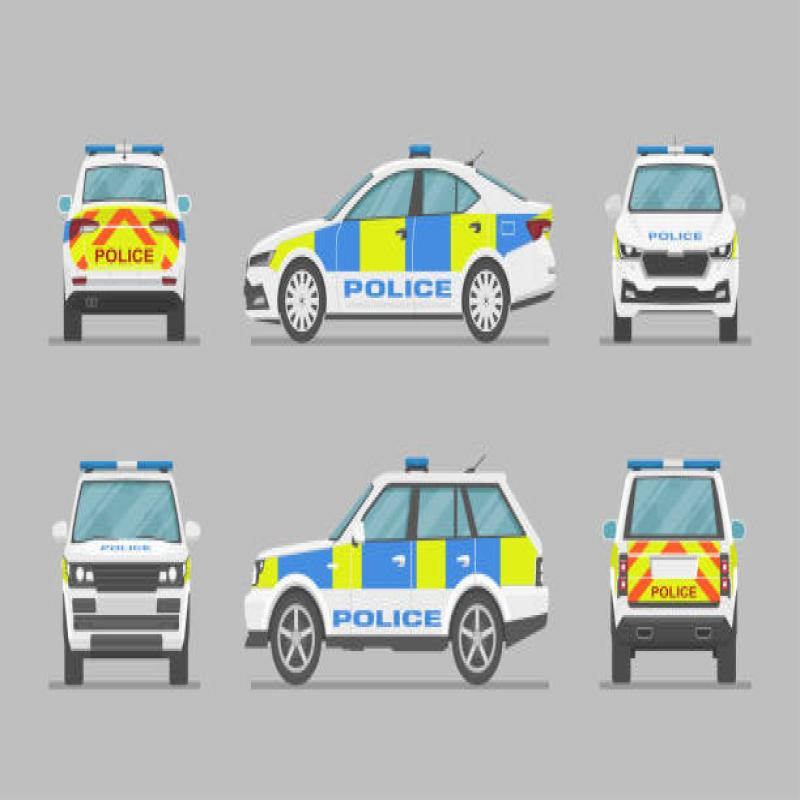car: (222, 465, 566, 669), (592, 113, 742, 324)
